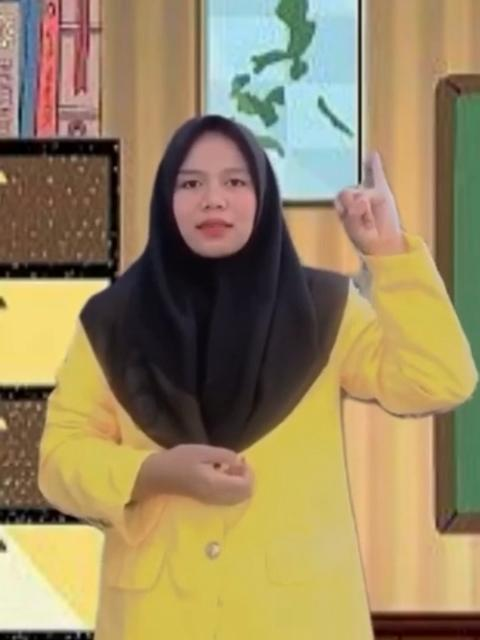I: (330, 149, 406, 255)
